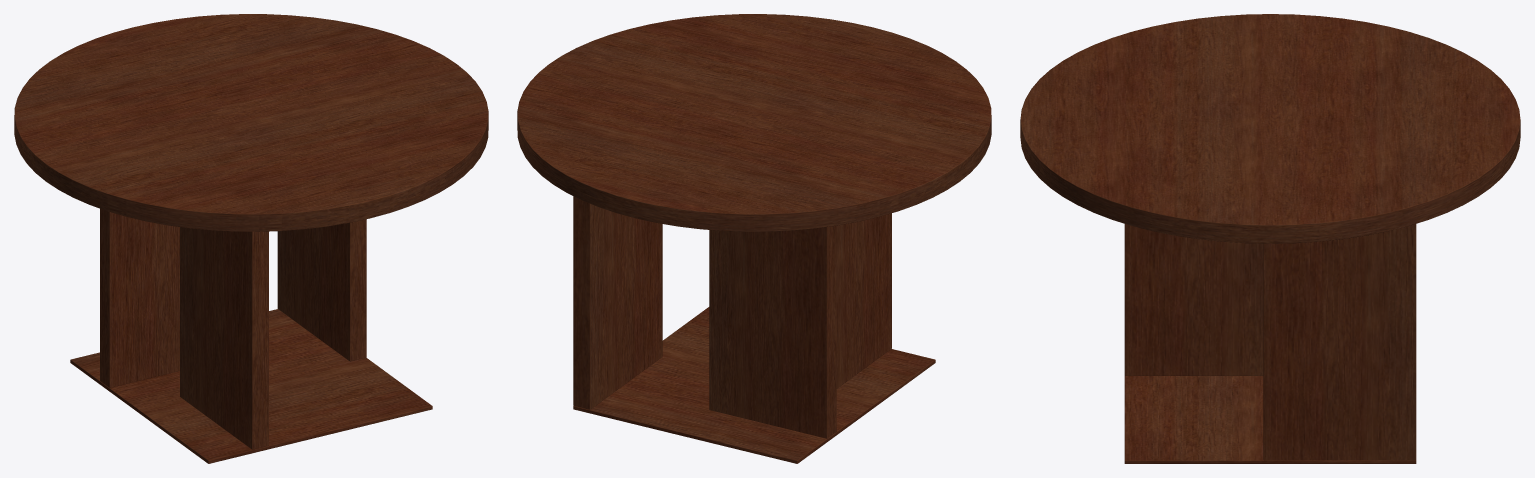
File: Table.fbx
3 renders of one model, left to right at view 1: azimuth 30°, elevation 25°; view 2: azimuth 150°, elevation 25°; view 3: azimuth 270°, elevation 25°, orthographic. The views are drawn at different scales.
Parts seen in each view (by area): view 1: Table; view 2: Table; view 3: Table.
Part boxes in pixels (x1=…): Table: x1=14, y1=14, x2=488, y2=463; Table: x1=517, y1=14, x2=991, y2=463; Table: x1=1020, y1=14, x2=1520, y2=463.
Size of the model in its own units: 120 by 76 by 120.
Materials: 1 (1 with a texture image).
